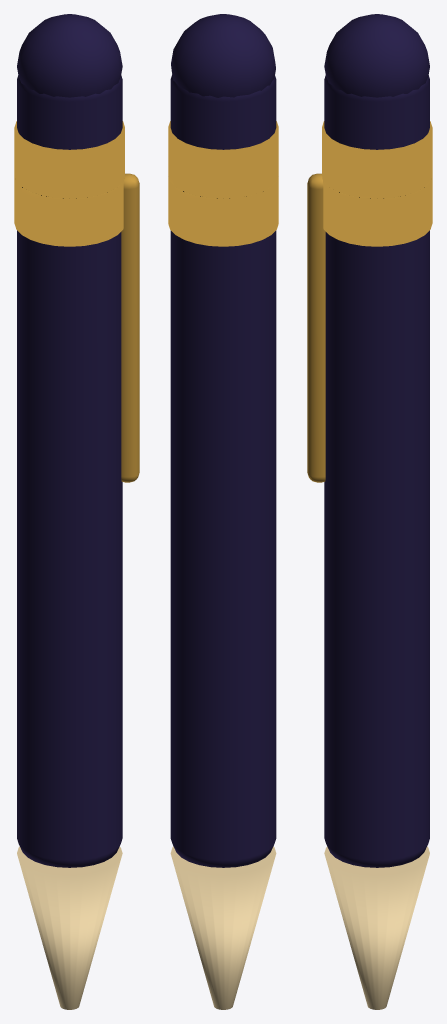
File: ui_pen.glb
3 views of the same model, side by side, from view 1: azimuth 90°, elevation 25°; view 2: azimuth 210°, elevation 25°; view 3: azimuth 270°, elevation 25° (orthographic).
Visible parts, largest first — view 1: ui_pen; view 2: ui_pen; view 3: ui_pen.
Boxes of the visible parts, bbox=[...] form: ui_pen: bbox=[14, 14, 139, 1009]; ui_pen: bbox=[168, 14, 278, 1009]; ui_pen: bbox=[307, 14, 432, 1009].
Bounding box in the file's own units: 0.23 × 2.26 × 0.26.
